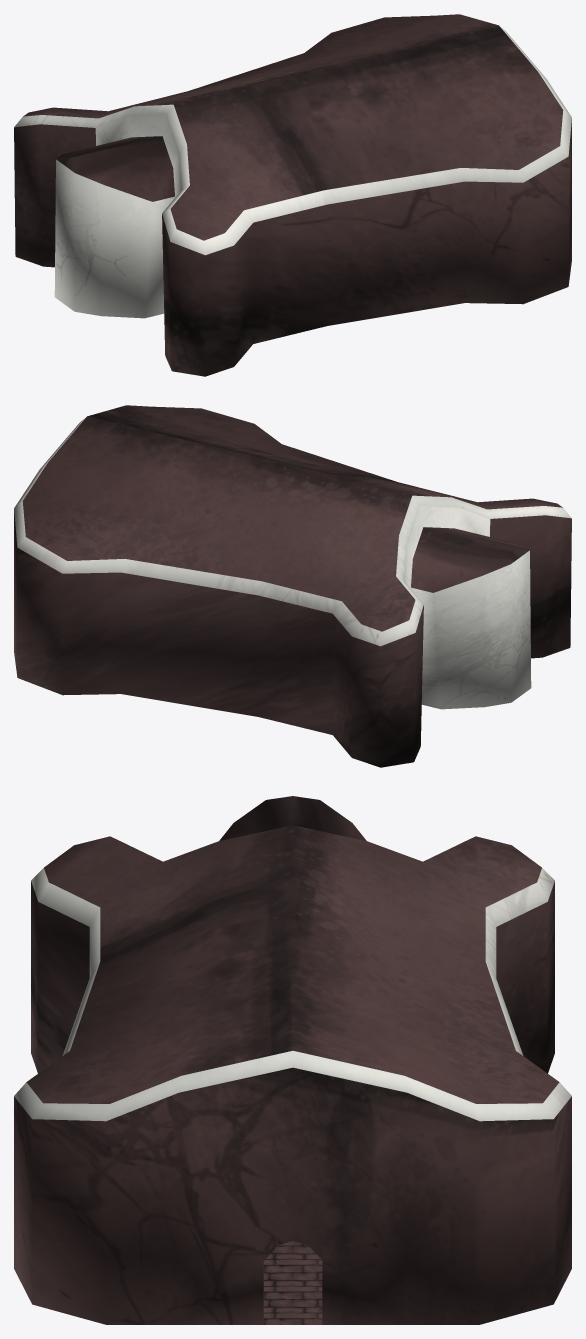
File: MOD_L1_BossRoom.fbx
3 views of the same model, one above another, from view 1: azimuth 30°, elevation 25°; view 2: azimuth 150°, elevation 25°; view 3: azimuth 270°, elevation 25° (orthographic). The views are drawn at different scales.
Parts seen in each view (by area): view 1: BossRoom; view 2: BossRoom; view 3: BossRoom.
Part boxes in pixels (x1,y1,x2,y2): BossRoom: [14, 14, 571, 376]; BossRoom: [14, 405, 571, 767]; BossRoom: [14, 796, 571, 1324].
Bounding box in the file's own units: 428 × 176 × 329.
